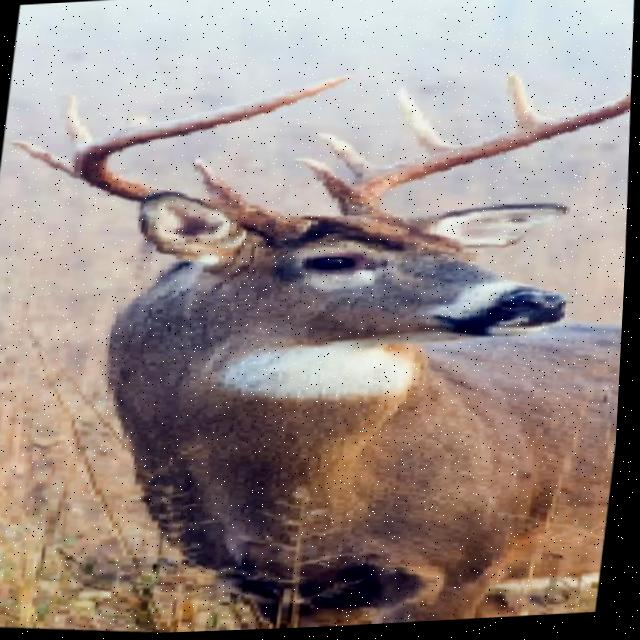L-G1: (192, 158, 253, 206)
L-G2: (9, 139, 79, 178)
L-G3: (64, 93, 100, 152)
R-F: (341, 93, 632, 220)
R-G1: (294, 159, 354, 204)
R-G2: (316, 134, 390, 183)
R-G3: (395, 87, 467, 160)
R-G4: (507, 75, 544, 136)
